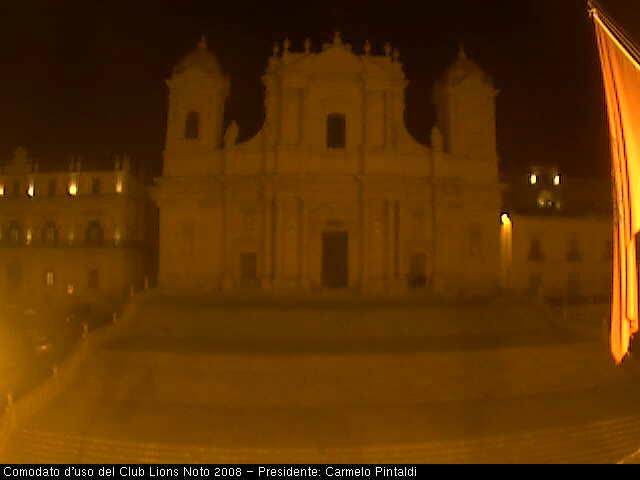person: (409, 271, 416, 289), (418, 275, 426, 290)
